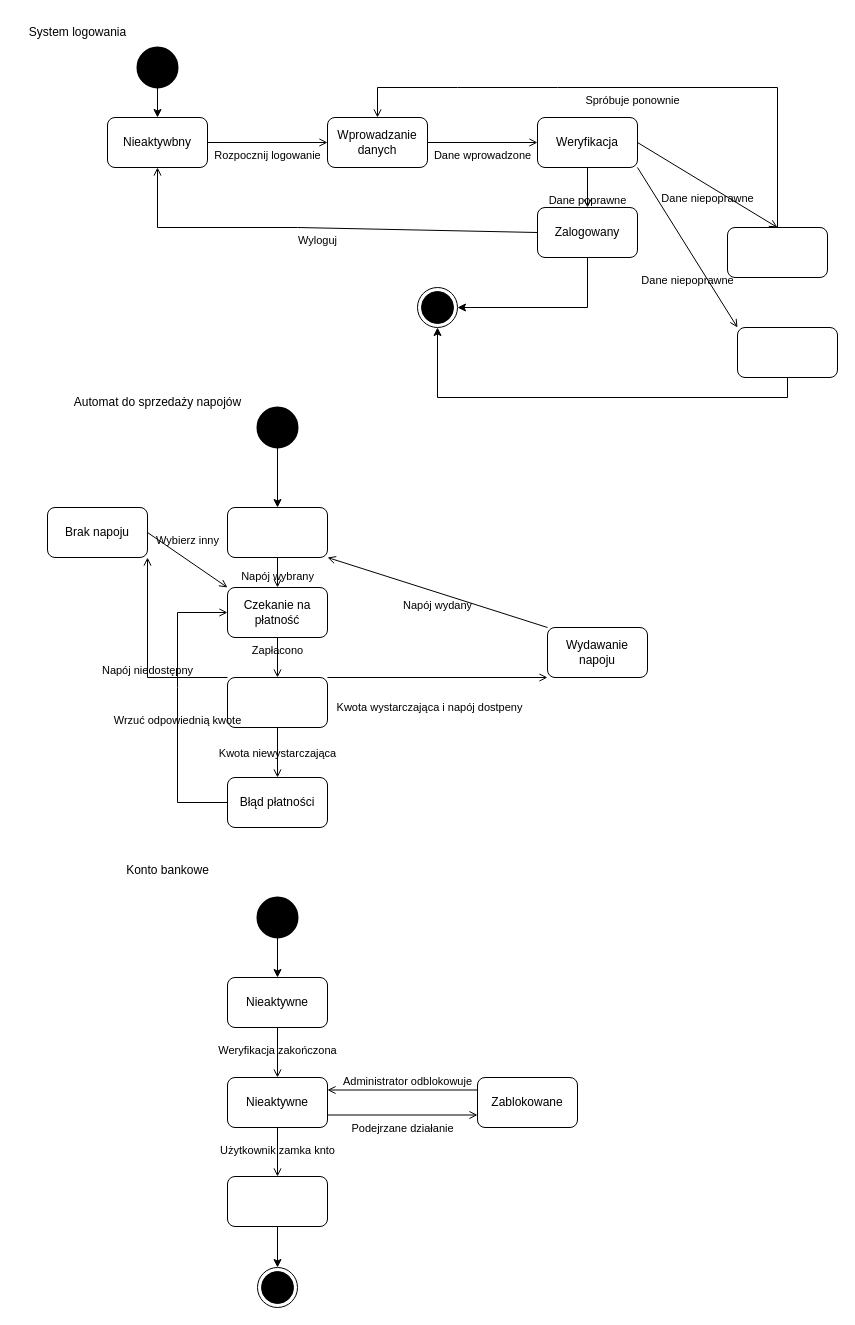
This 855x1325 diagram has some shape labels left out. Here are the shapes that lost their labels. From the top down, the centre of each, then its label:
At pixel 777 252: "Błąd logowania".
At pixel 787 352: "Zablokowany".
At pixel 277 532: "Czekanie na wybór".
At pixel 277 702: "Weryfikacja płatności".
At pixel 277 1201: "Zamknięte".
